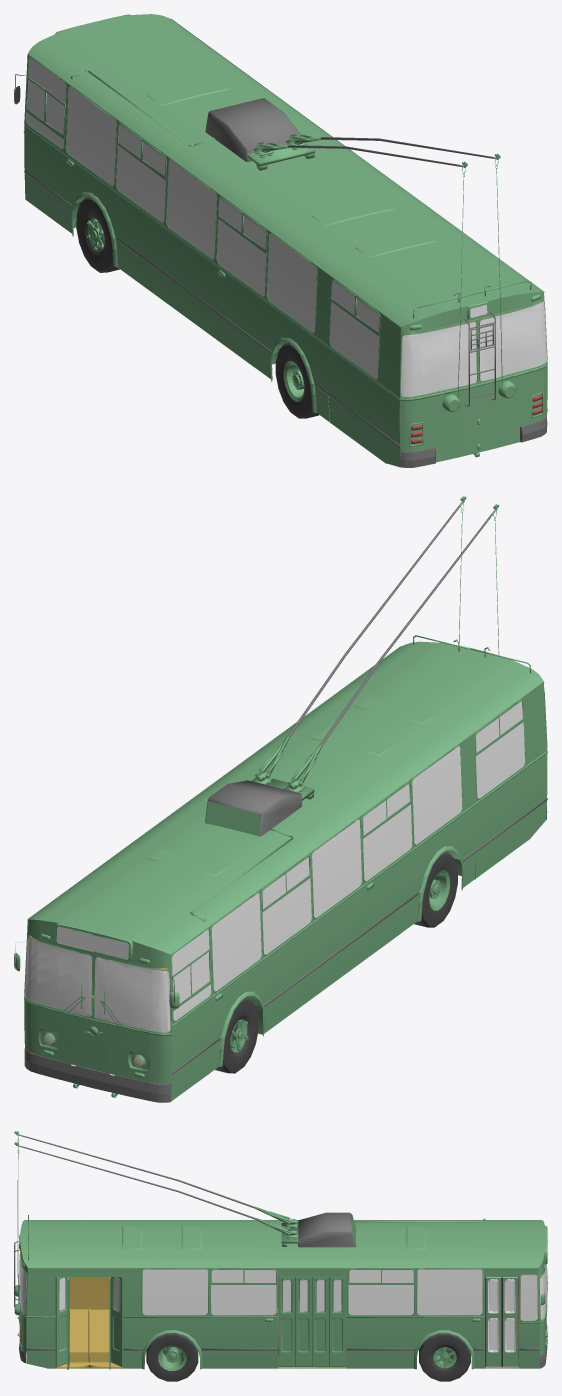
File: Bus_open_Door.fbx
The picture shows the model from 3 angles, top to bottom: view 1: azimuth 30°, elevation 25°; view 2: azimuth 150°, elevation 25°; view 3: azimuth 270°, elevation 25°; orthographic projection. The views are drawn at different scales.
Visible parts, largest first — view 1: Body, Horns, FLwheel, BLwheel; view 2: Body, Horns, BLwheel, FLwheel; view 3: Body, BRwheel, FRwheel, Horns.
Boxes of the visible parts, x1=… form: Body: x1=14, y1=14, x2=547, y2=467; Horns: x1=256, y1=134, x2=502, y2=397; FLwheel: x1=76, y1=197, x2=119, y2=272; BLwheel: x1=275, y1=342, x2=318, y2=418; Body: x1=14, y1=635, x2=547, y2=1102; Horns: x1=255, y1=496, x2=499, y2=789; BLwheel: x1=414, y1=851, x2=457, y2=927; FLwheel: x1=215, y1=997, x2=258, y2=1073; Body: x1=14, y1=1212, x2=547, y2=1369; BRwheel: x1=146, y1=1333, x2=198, y2=1381; FRwheel: x1=419, y1=1333, x2=470, y2=1381; Horns: x1=14, y1=1131, x2=296, y2=1303.
Bounding box in the file's own units: 112 × 210 × 459.
